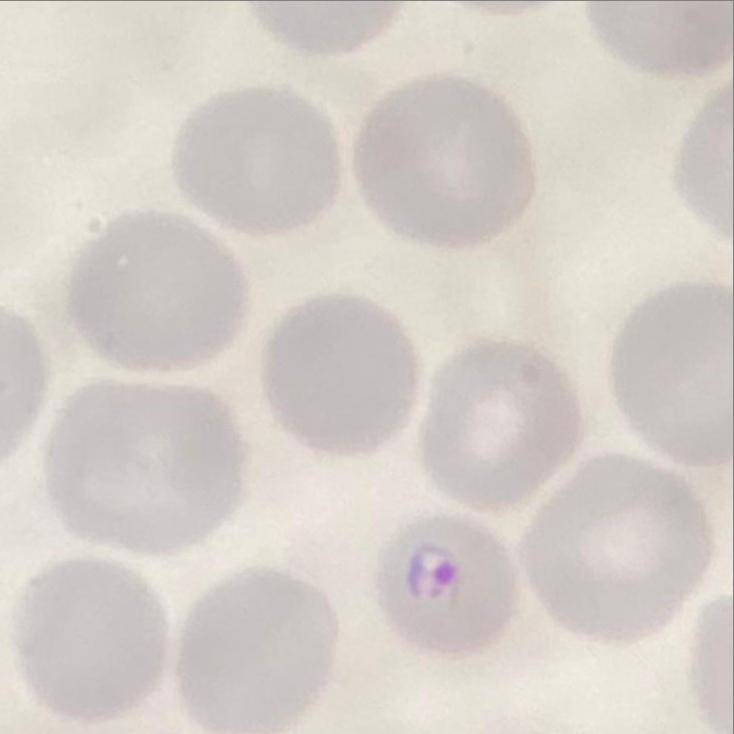Infected: (374, 509, 514, 660)
Uninfected: (526, 453, 717, 644), (42, 379, 247, 553), (68, 205, 249, 374), (412, 333, 579, 512), (356, 79, 530, 250), (257, 291, 422, 457), (178, 567, 334, 734), (8, 557, 166, 721), (173, 81, 338, 233), (608, 281, 734, 460)
